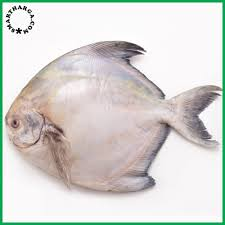Ikan Bawal: (6, 39, 222, 198)
